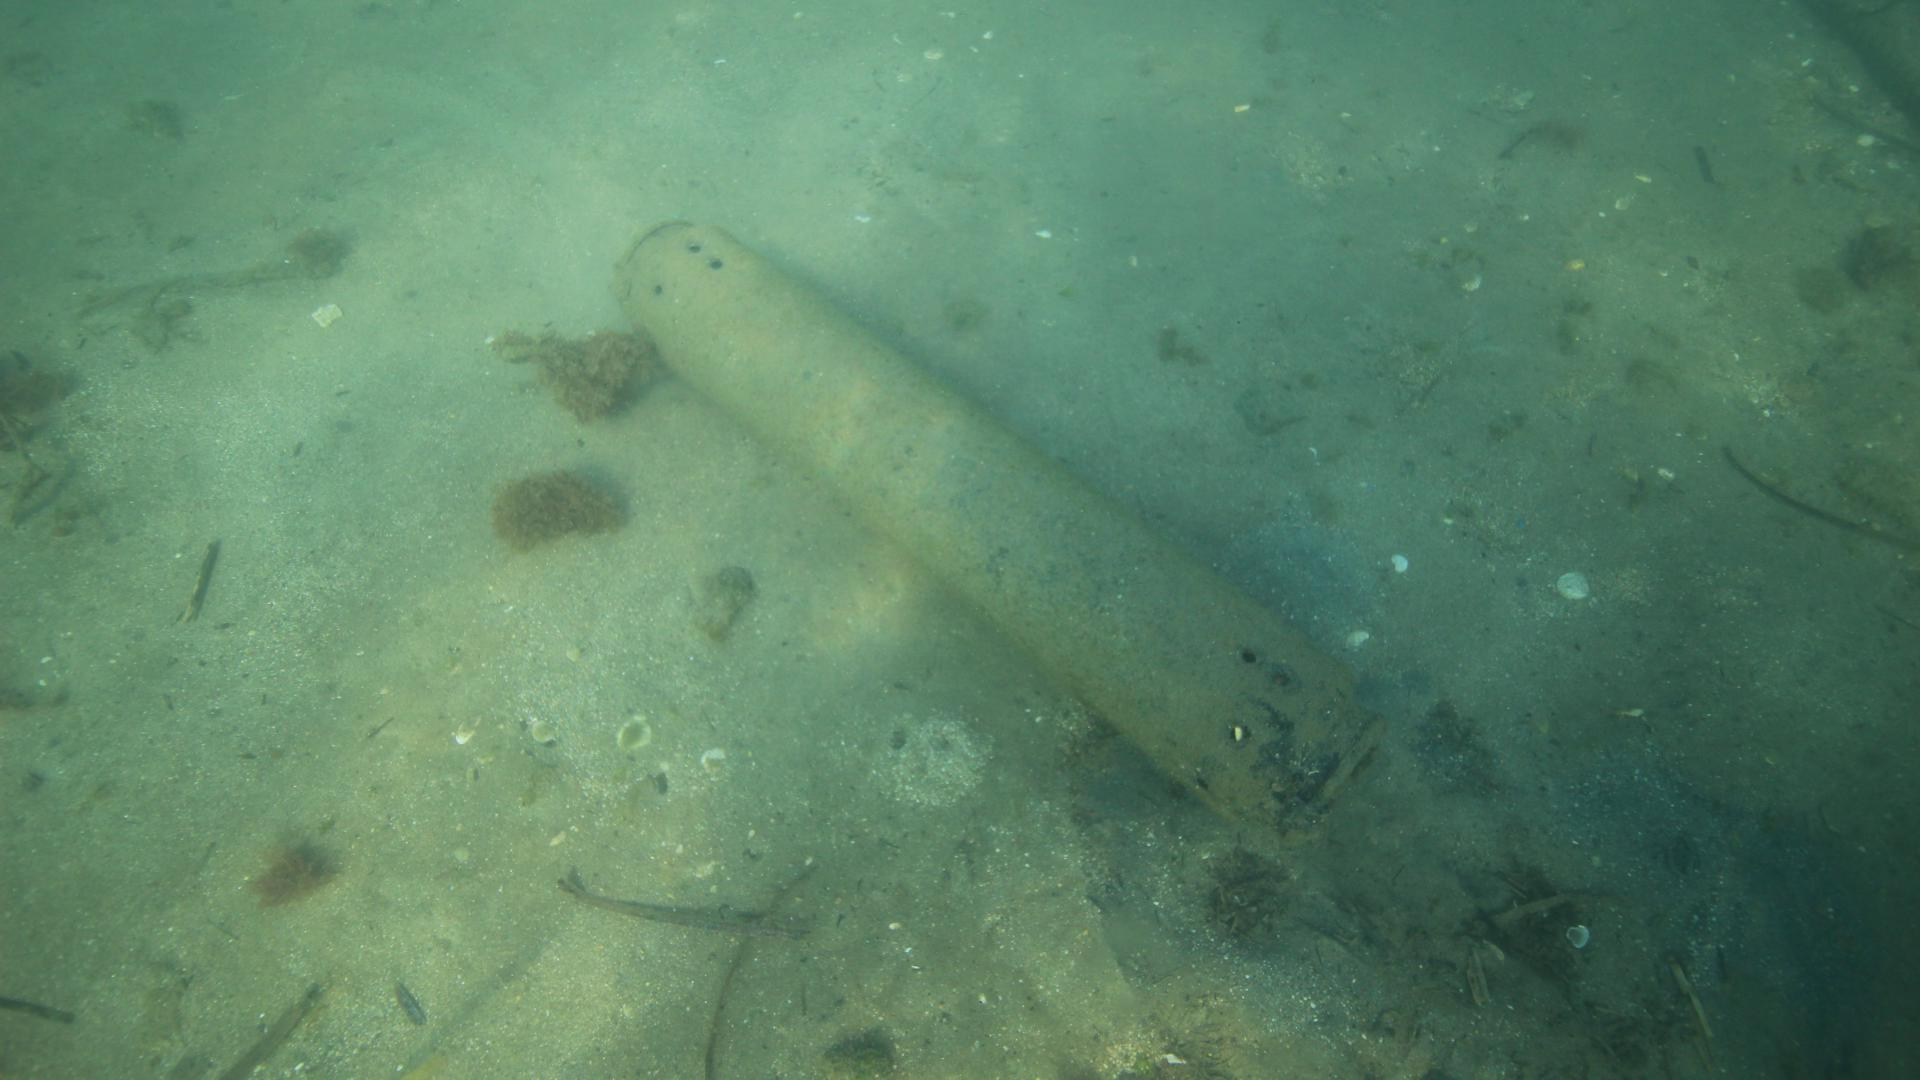eel fish trap: (615, 214, 1385, 824)
